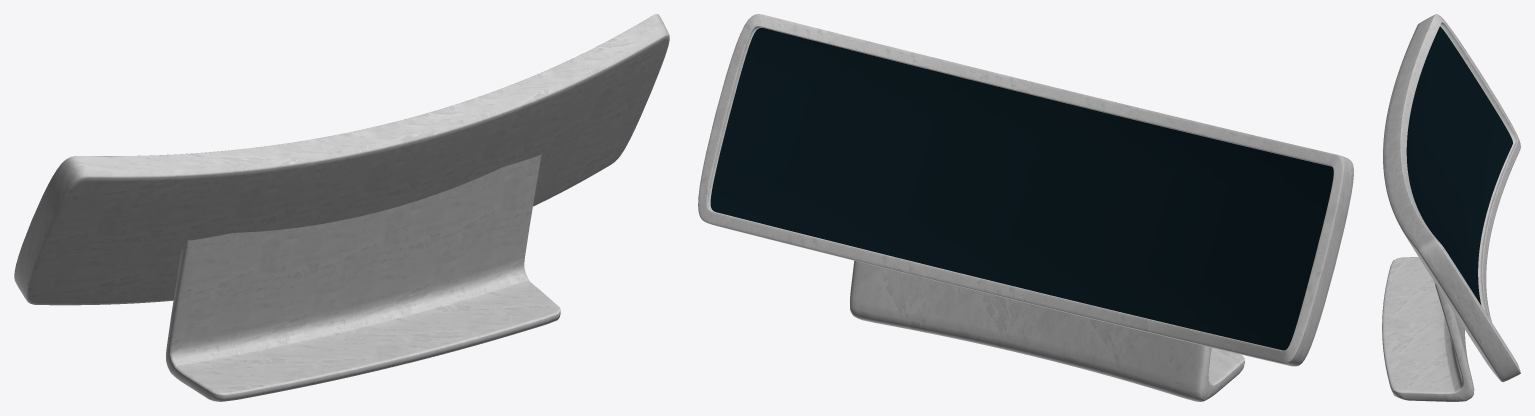
The model's file is tutorialScreen4.fbx.
The picture shows the model from 3 angles, left to right: view 1: azimuth 30°, elevation 25°; view 2: azimuth 150°, elevation 25°; view 3: azimuth 270°, elevation 25°; orthographic projection. The views are drawn at different scales.
Parts seen in each view (by area): view 1: pCube15; view 2: pCube15; view 3: pCube15.
Boxes of the visible parts, x1,y1,x2,y2 form: pCube15: [14, 14, 669, 401]; pCube15: [698, 14, 1353, 401]; pCube15: [1382, 14, 1520, 401].
Size of the model in its own units: 429 by 177 by 106.
2 materials, 2 textured.
